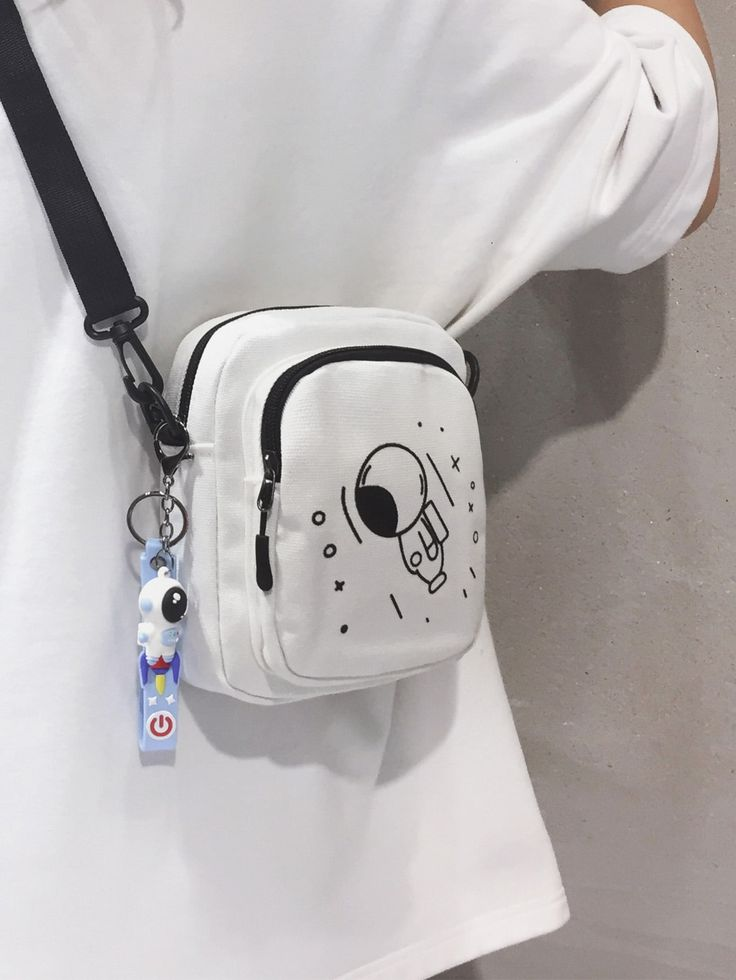nylon: (146, 303, 488, 706)
